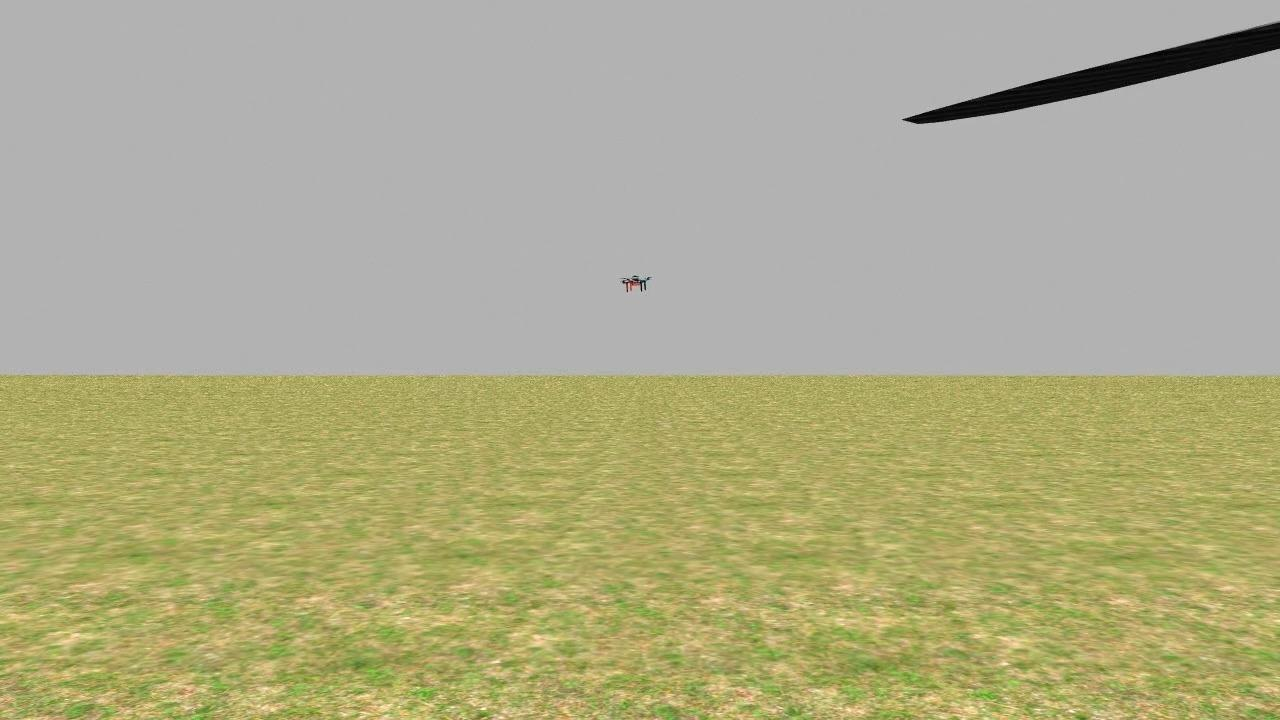UAV: (614, 266, 658, 304)
